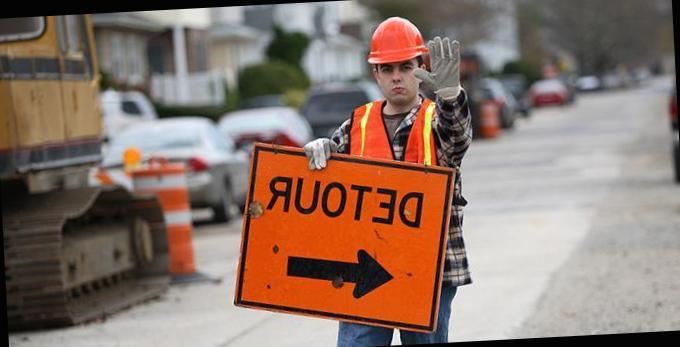helmet: (356, 10, 428, 67)
person: (293, 3, 484, 347)
